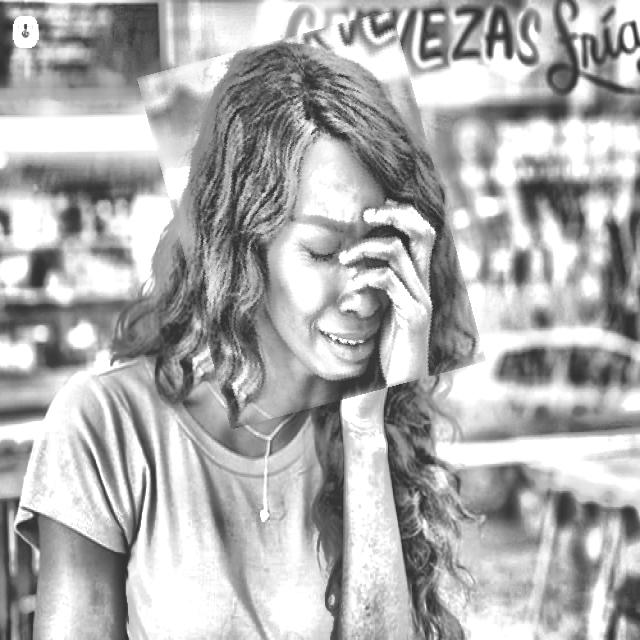sad: (158, 24, 466, 416)
